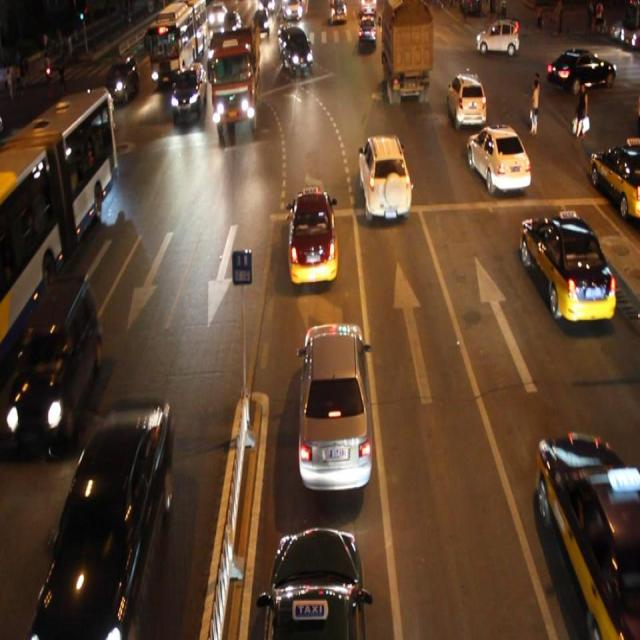bus: (210, 25, 260, 134), (382, 1, 431, 106)
car: (36, 402, 173, 640), (534, 430, 640, 640), (297, 319, 373, 495), (260, 526, 367, 640), (520, 212, 614, 320), (287, 188, 339, 284), (464, 121, 529, 194), (358, 134, 411, 218), (447, 70, 484, 128), (171, 64, 206, 120), (82, 90, 116, 140), (104, 57, 139, 105), (280, 28, 314, 75)
truck: (11, 276, 102, 439)
van: (1, 89, 119, 360), (149, 1, 205, 81)
